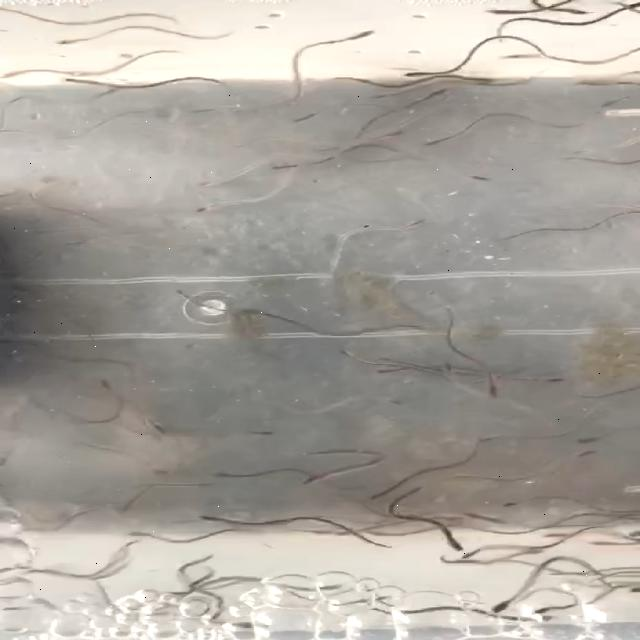active_glass_eel: (335, 19, 394, 44), (386, 212, 431, 242), (452, 160, 497, 188), (156, 284, 210, 306), (578, 95, 640, 114), (518, 604, 568, 624), (260, 156, 303, 179), (471, 1, 529, 18), (467, 598, 515, 618), (556, 78, 611, 94), (143, 418, 179, 442), (406, 131, 446, 152), (278, 472, 328, 488), (570, 538, 636, 550), (309, 582, 353, 600), (247, 427, 296, 443), (0, 64, 34, 86), (518, 375, 570, 389), (494, 45, 532, 64), (58, 72, 98, 90), (473, 387, 503, 411), (36, 36, 87, 50), (438, 356, 470, 378), (490, 492, 529, 510), (12, 565, 52, 582), (419, 555, 475, 567), (368, 365, 409, 381), (74, 378, 110, 396), (400, 63, 438, 80), (458, 74, 504, 88), (222, 614, 257, 632), (86, 84, 125, 100), (556, 8, 608, 20), (182, 207, 230, 220), (114, 528, 152, 544), (76, 569, 108, 587), (178, 512, 226, 524), (432, 537, 479, 549), (448, 550, 492, 562), (564, 443, 601, 457), (425, 82, 451, 100), (571, 430, 609, 442), (207, 469, 236, 484), (362, 490, 393, 504), (116, 505, 143, 521), (532, 530, 568, 542), (197, 178, 226, 190), (456, 508, 480, 522)
